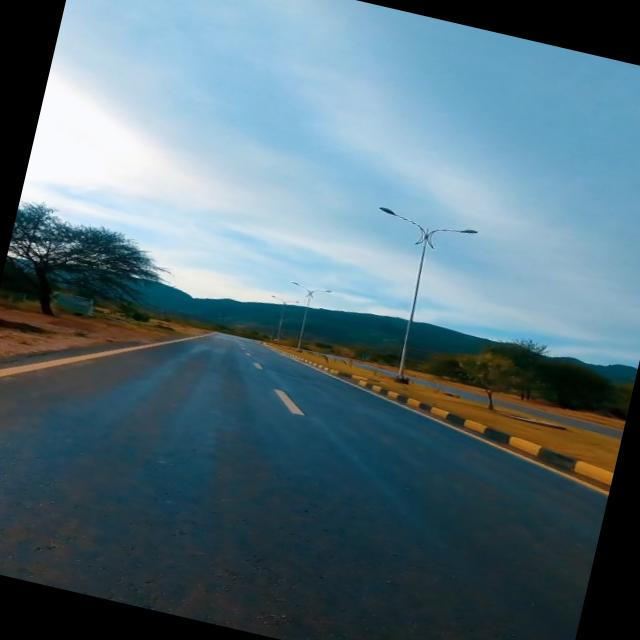asphalt: (0, 334, 608, 640)
